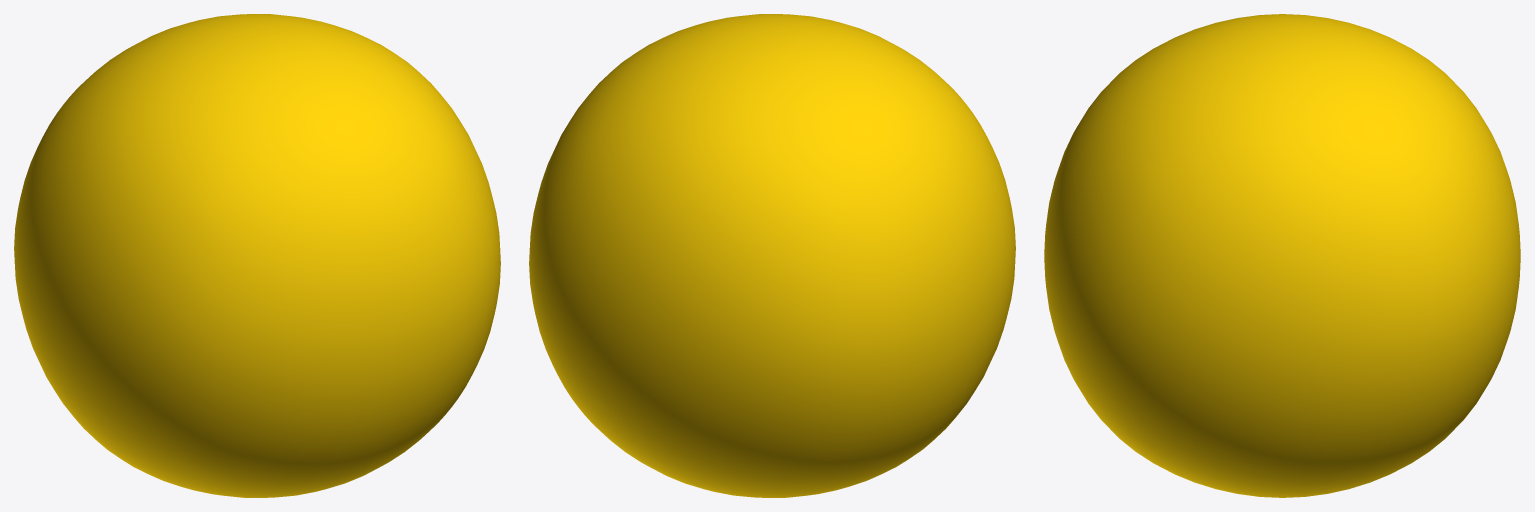
The model's file is Sun.obj.
The picture shows the model from 3 angles, left to right: view 1: azimuth 30°, elevation 25°; view 2: azimuth 150°, elevation 25°; view 3: azimuth 270°, elevation 25°; orthographic projection.
Parts seen in each view (by area): view 1: Cube; view 2: Cube; view 3: Cube.
Part boxes in pixels (left/top/right/bottom): Cube: left=14, top=14, right=500, bottom=497; Cube: left=529, top=14, right=1015, bottom=497; Cube: left=1044, top=14, right=1520, bottom=497.
Bounding box in the file's own units: 16.79 × 16.79 × 16.79.
Materials: 1 (1 with a texture image).
